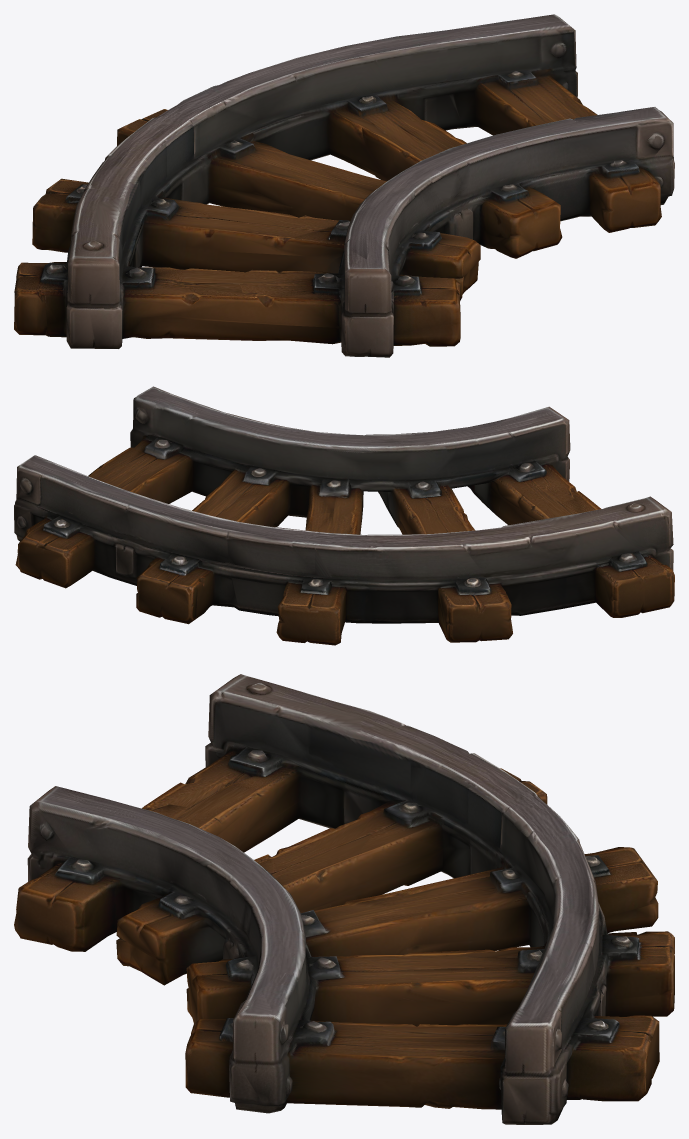
The model's file is rueda_de_carro_de_madera.glb.
3 renders of one model, top to bottom at view 1: azimuth 30°, elevation 25°; view 2: azimuth 150°, elevation 25°; view 3: azimuth 270°, elevation 25°, orthographic. The views are drawn at different scales.
Visible parts, largest first — view 1: rueda_de_carro_de_madera; view 2: rueda_de_carro_de_madera; view 3: rueda_de_carro_de_madera.
Boxes of the visible parts, x1=… form: rueda_de_carro_de_madera: x1=14, y1=14, x2=674, y2=357; rueda_de_carro_de_madera: x1=14, y1=386, x2=674, y2=645; rueda_de_carro_de_madera: x1=14, y1=674, x2=674, y2=1124.
Size of what is drawn, in the model's own units: 7.47 by 0.9988 by 5.64.
1 material, 1 textured.
